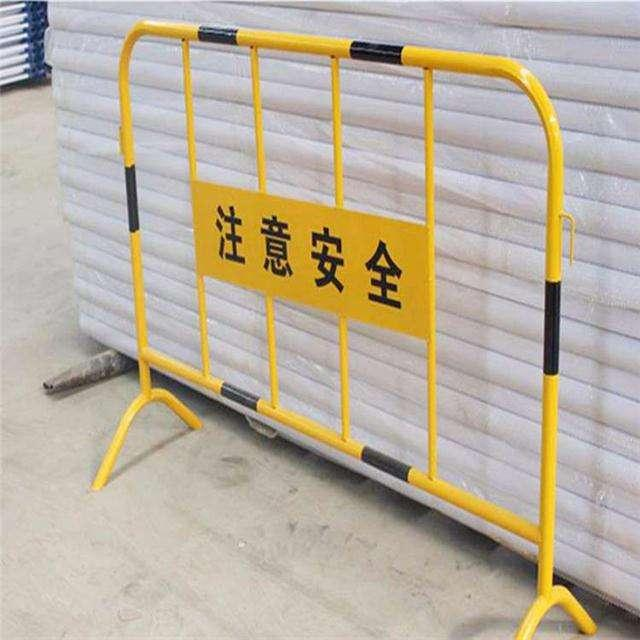sign: (83, 17, 609, 640)
